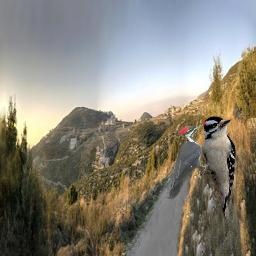Woodpecker: (199, 116, 236, 219), (165, 122, 209, 199)
